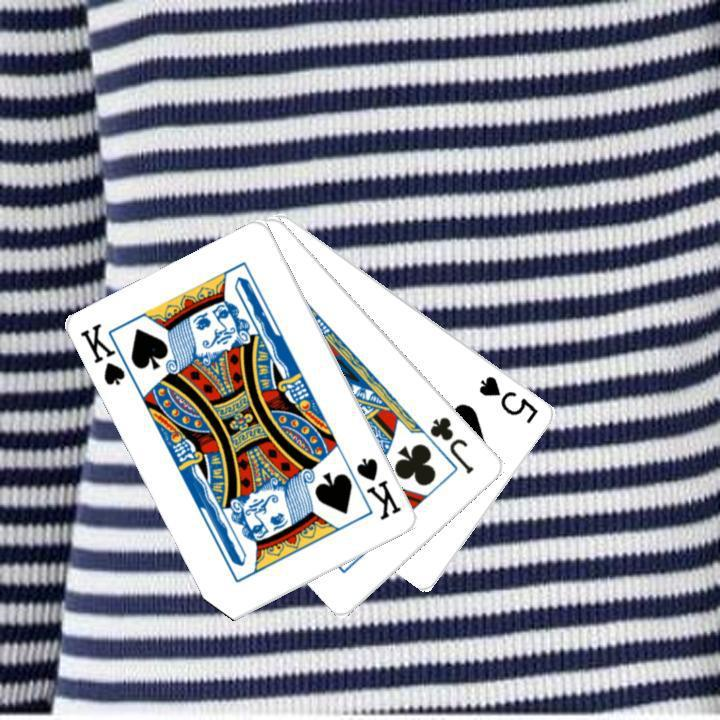5: (475, 371, 541, 425)
J: (425, 412, 477, 476)
K: (76, 319, 139, 388), (352, 453, 404, 522)
